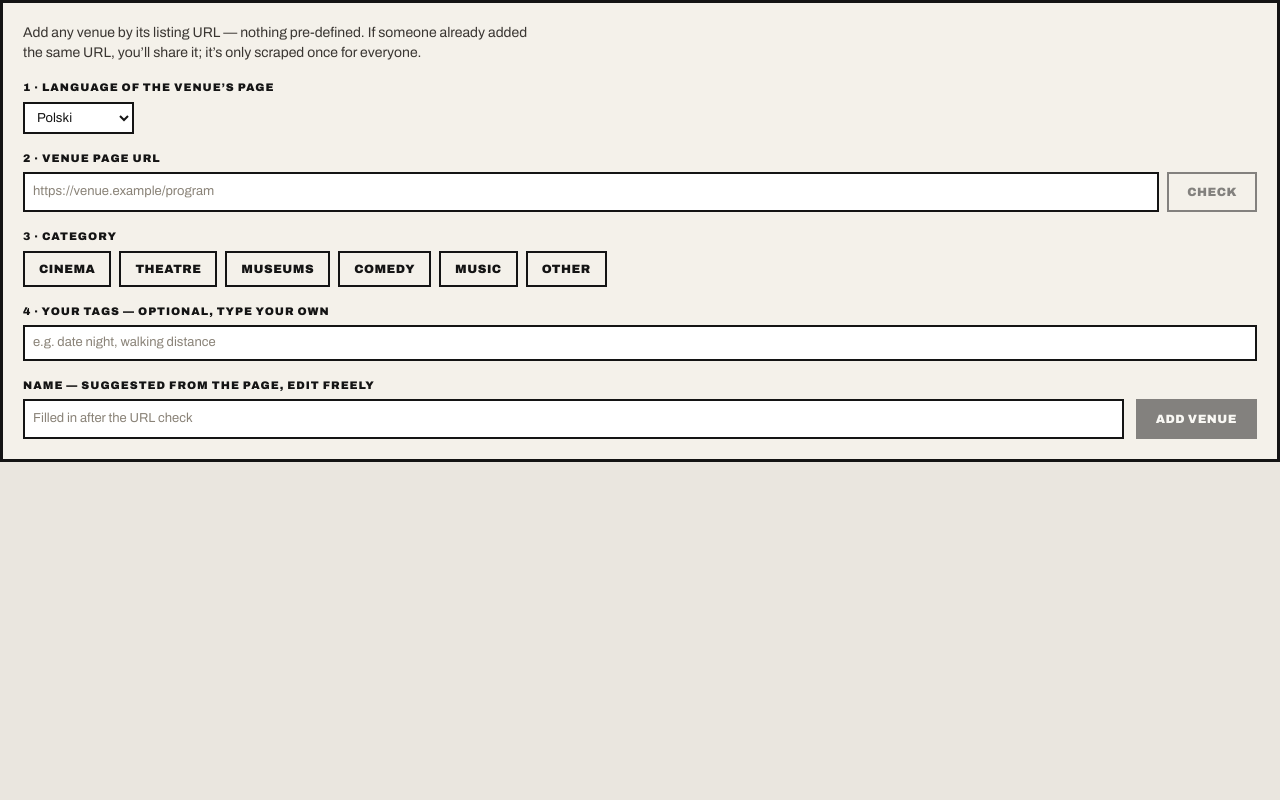
Test case: AddVenueForm — probe result (GOI-72 §5, §8) › warns that a low-confidence source may be news rather than events
Type "https://palacowe.example/repertuar" into the field labelled "2 · Venue page URL". click: (591, 192)
box: [23,172,1159,212]
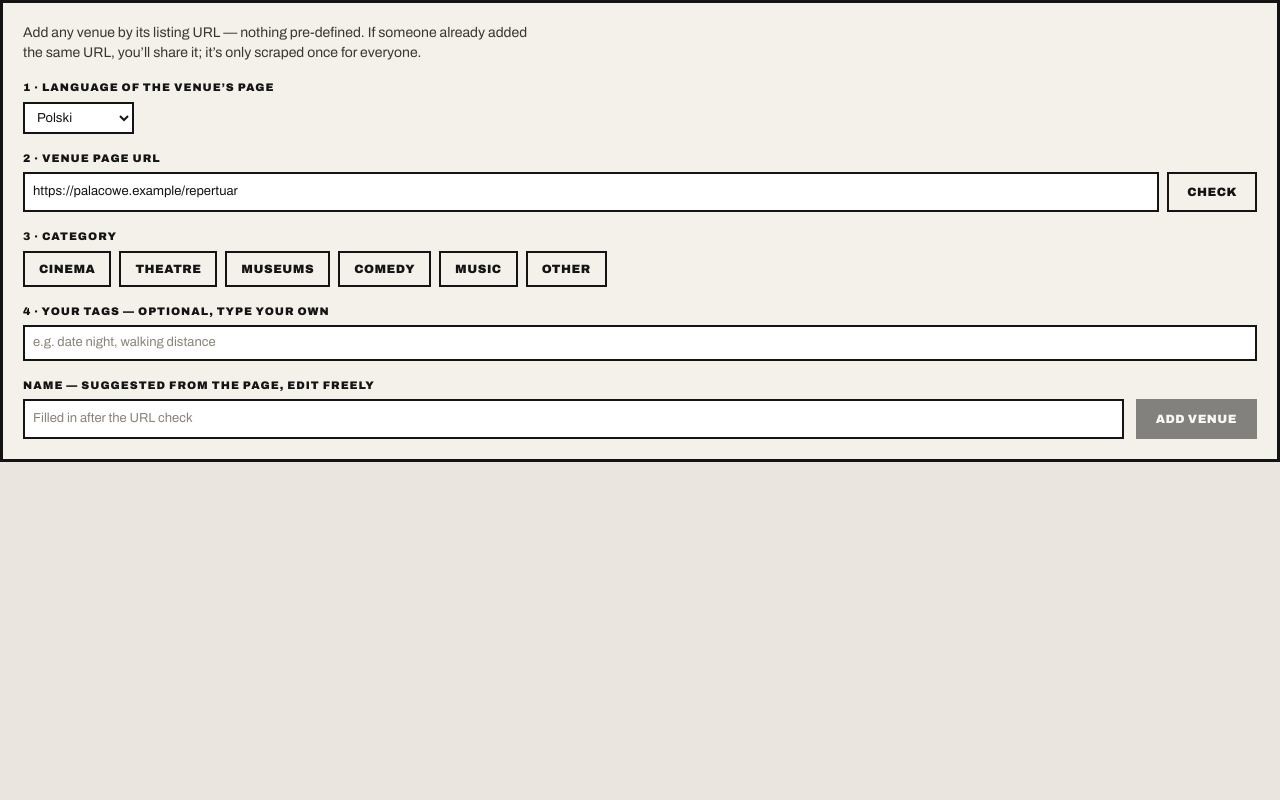
Click the button "Check". click: (1212, 192)
box: [1167,172,1257,212]
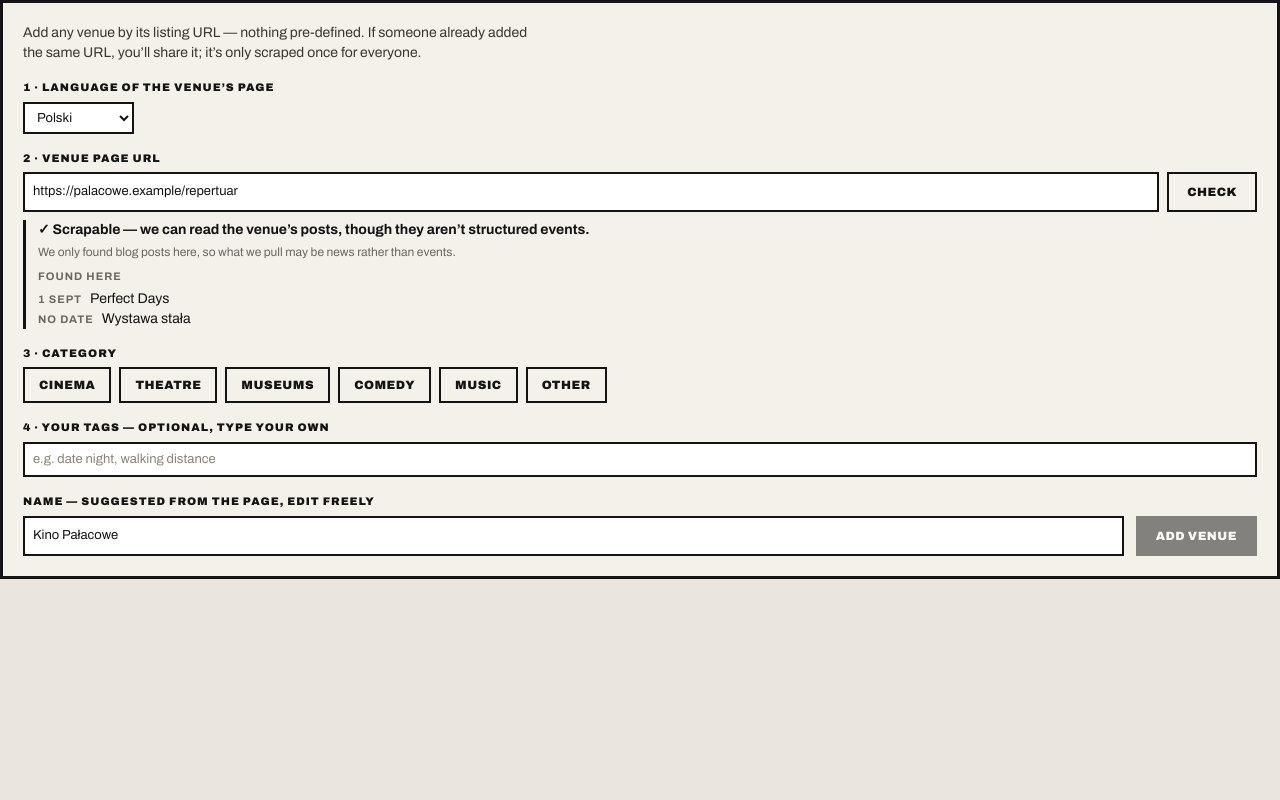
Check: the message shows "news rather than events", box [38,245,456,259]
